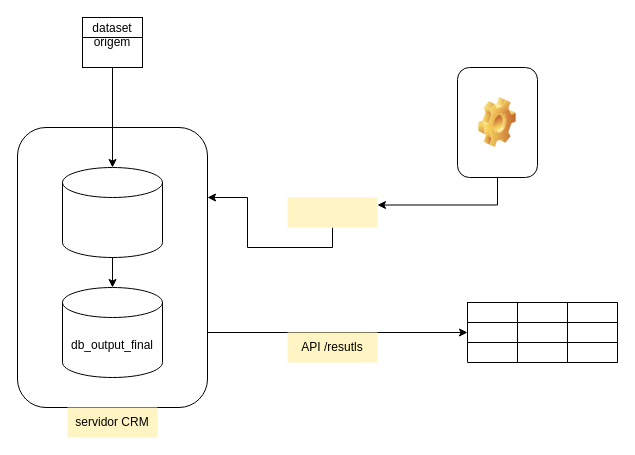
Some shapes in this 635 by 455 pixel diagram are drawn without their labels. The shapes that lost their labels are listed below. From the top down, each one's box as (x1, y1, x2, y2) in pixels, then its label:
(62, 166, 162, 258): db_origem_churn
(287, 197, 377, 227): API /predicts
